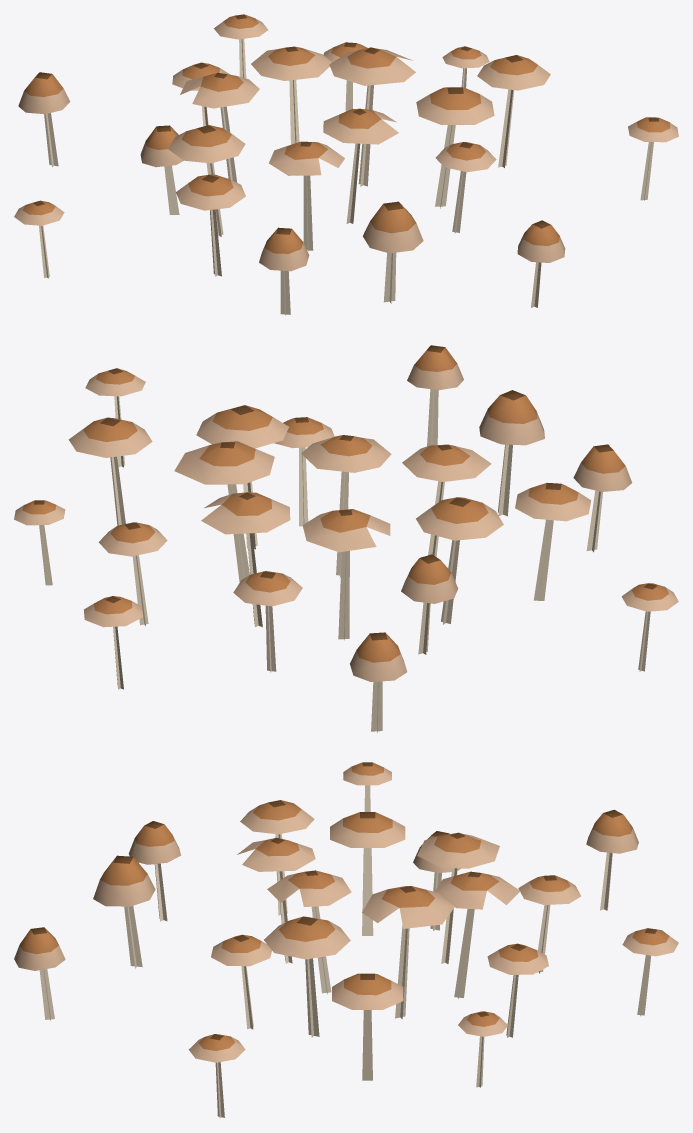
File: Brown_Mushrooms_Cluster_3.fbx
3 views of the same model, one above another, from view 1: azimuth 30°, elevation 25°; view 2: azimuth 150°, elevation 25°; view 3: azimuth 270°, elevation 25° (orthographic). The views are drawn at different scales.
Parts seen in each view (by area): view 1: Brown_Mushrooms_Cluster_3; view 2: Brown_Mushrooms_Cluster_3; view 3: Brown_Mushrooms_Cluster_3.
Part boxes in pixels (x1,y1,x2,y2): Brown_Mushrooms_Cluster_3: (14,14,678,315); Brown_Mushrooms_Cluster_3: (14,345,678,732); Brown_Mushrooms_Cluster_3: (14,762,678,1118).
Size of the model in its own units: 71.59 by 15.01 by 67.23.
1 material, 1 textured.
